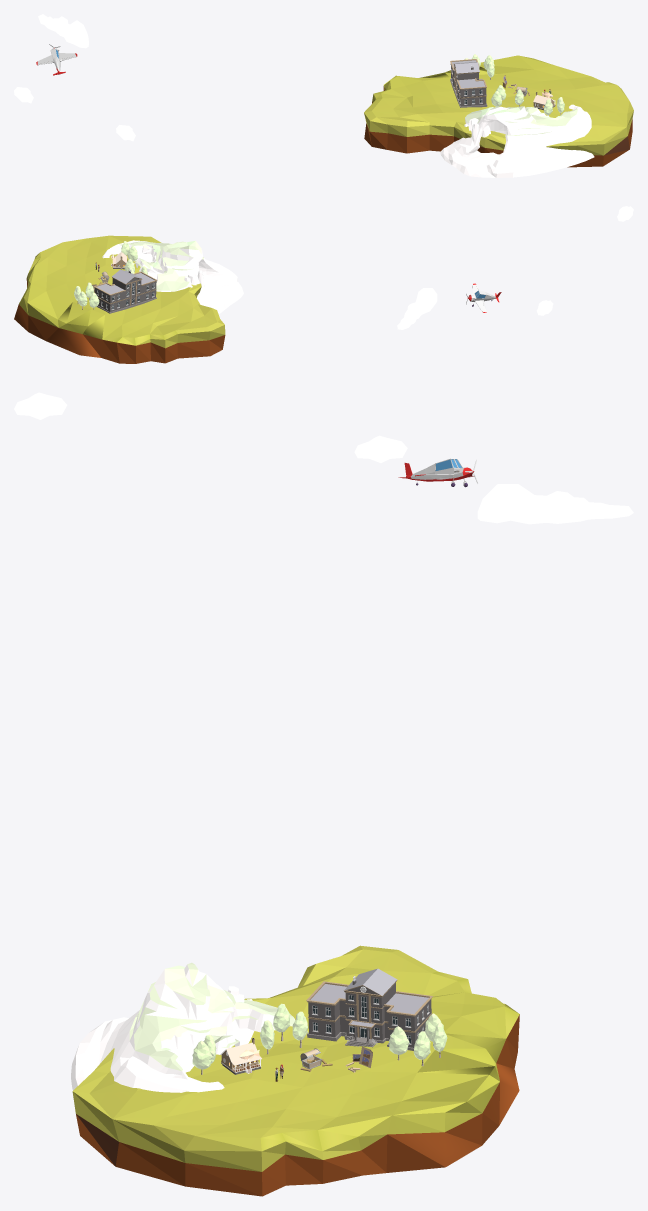
File: Country_Spain.glb
3 views of the same model, one above another, from view 1: azimuth 30°, elevation 25°; view 2: azimuth 150°, elevation 25°; view 3: azimuth 270°, elevation 25° (orthographic). The views are drawn at different scales.
Visible parts, largest first — view 1: country, island-cave-large.001, newsBox, cloud-long.001, foodBox; view 2: country, island-cave-large.001, newsBox, cloud-long.001; view 3: country, island-cave-large.001, newsBox, cloud-long.001.
Part boxes in pixels (<box>): country: <box>36,44,633,167</box>; island-cave-large.001: <box>440,104,594,177</box>; newsBox: <box>450,59,487,107</box>; cloud-long.001: <box>38,14,88,48</box>; foodBox: <box>533,92,555,110</box>; country: <box>14,235,501,363</box>; island-cave-large.001: <box>102,240,243,314</box>; newsBox: <box>94,269,157,313</box>; cloud-long.001: <box>397,288,437,329</box>; country: <box>72,458,519,1196</box>; island-cave-large.001: <box>71,962,294,1092</box>; newsBox: <box>306,968,432,1050</box>; cloud-long.001: <box>477,484,633,524</box>.
Size of the model in its own units: 6.46 by 1.81 by 3.31.
58 materials, 6 textured.
